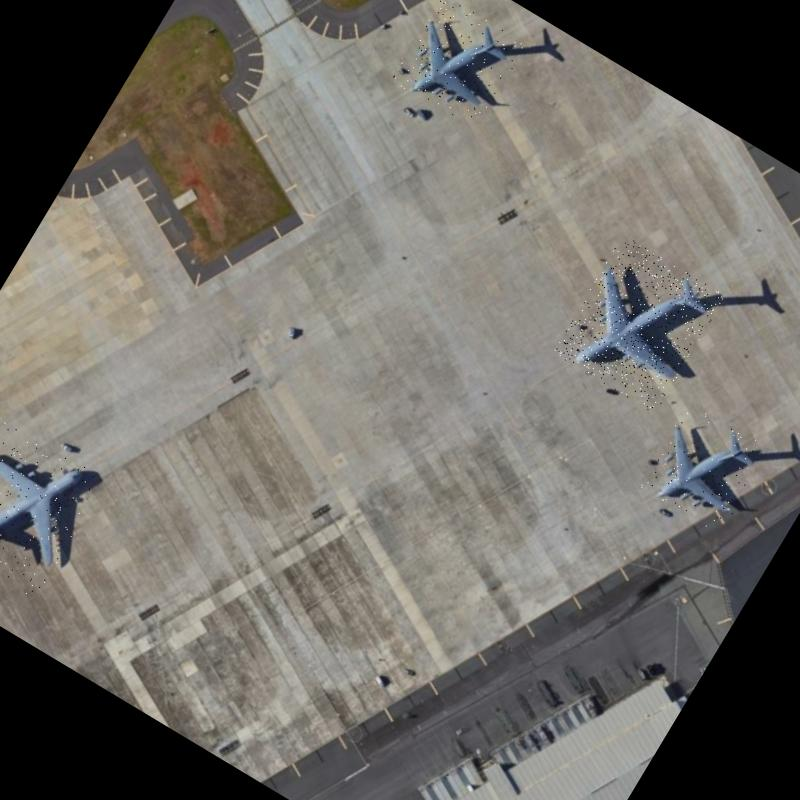A3: (636, 399, 771, 536), (389, 0, 526, 131)
A4: (552, 234, 726, 414), (0, 416, 106, 600)
